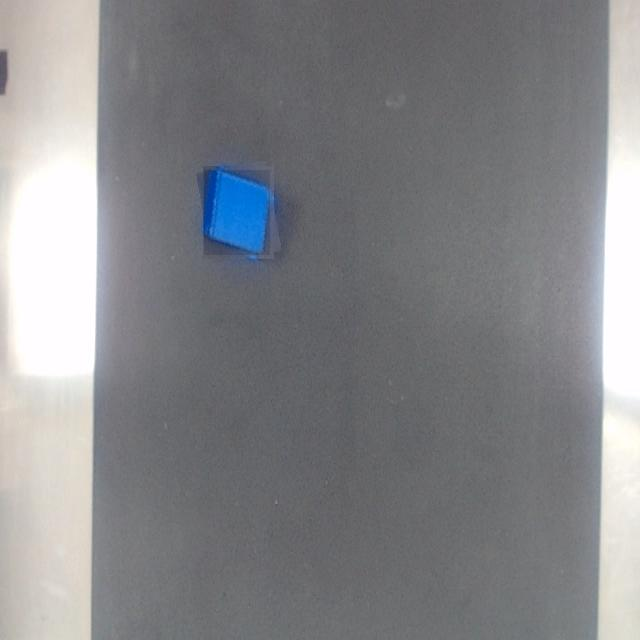Azul: (205, 171, 270, 255)
